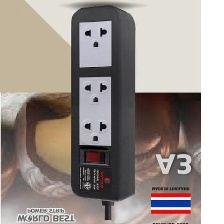three_eye_plug: (66, 1, 138, 206)
